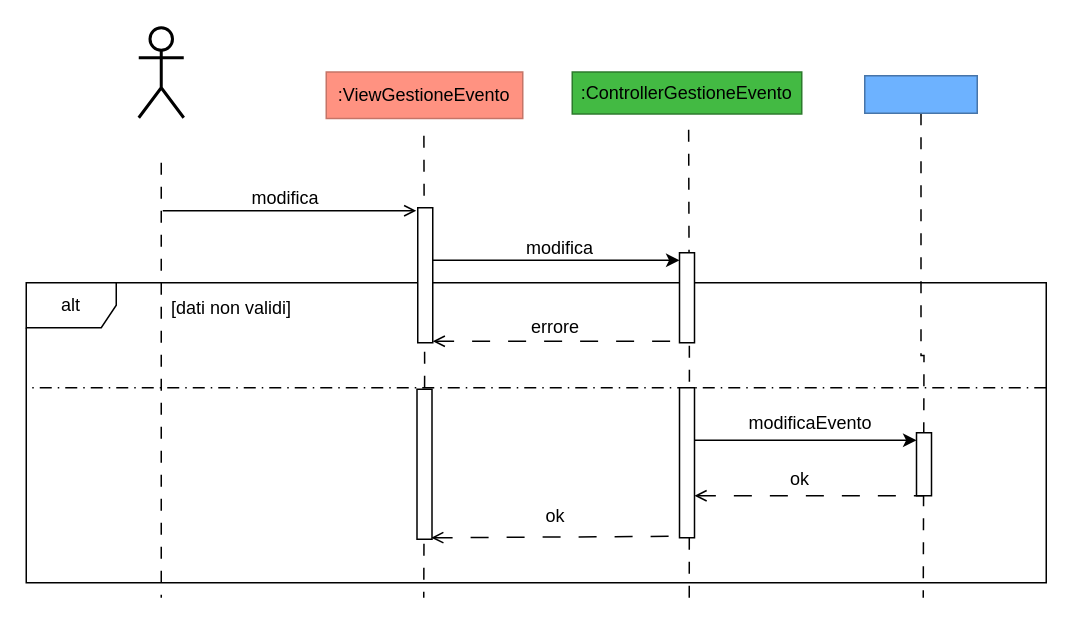
The diagram is 1074 pixels wide and 626 high, and some of its shapes have lost their labels. The centre of each missing label's shape, as x and y in pixels:
":Evento" belongs at pixel 920 93.
"Utente" belongs at pixel 160 72.
